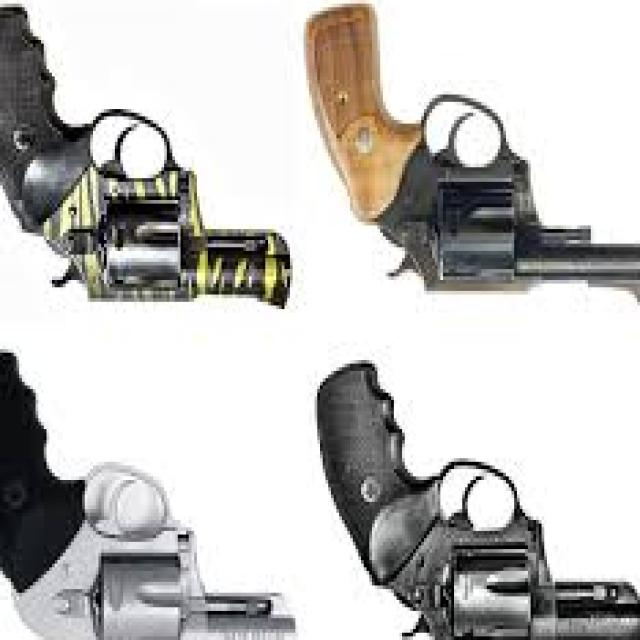Gun: (274, 0, 626, 389), (0, 0, 334, 360), (0, 353, 312, 640), (298, 386, 640, 640)
